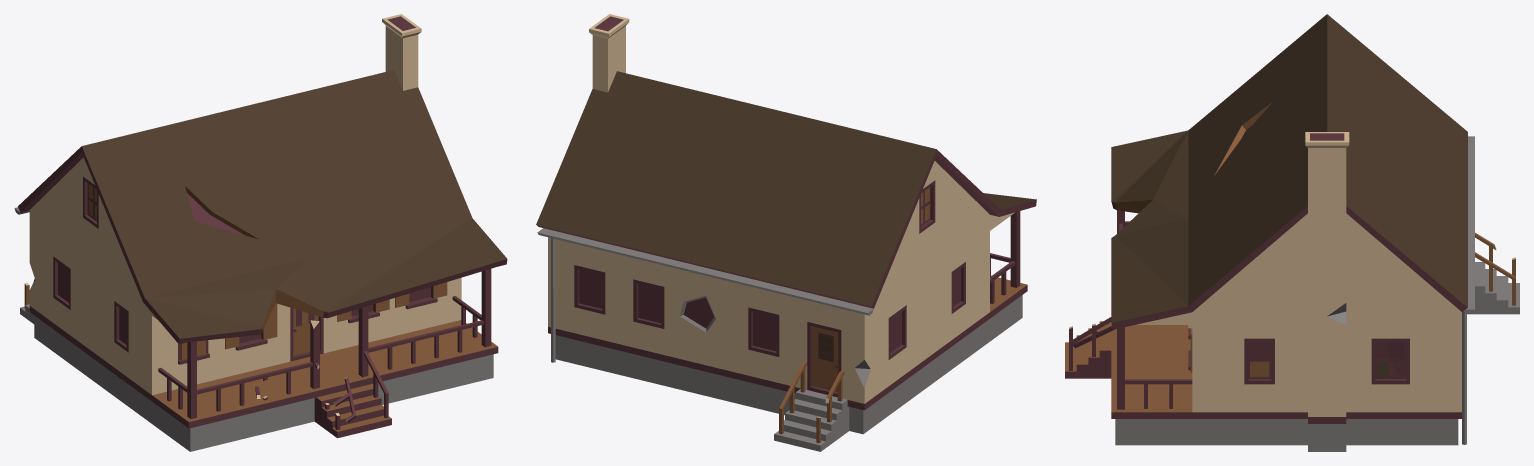
File: building-house-family-small-apocalypse-b.fbx
3 views of the same model, side by side, from view 1: azimuth 30°, elevation 25°; view 2: azimuth 150°, elevation 25°; view 3: azimuth 270°, elevation 25° (orthographic). The views are drawn at different scales.
Visible parts, largest first — view 1: building-house-family-small-apocalypse-b; view 2: building-house-family-small-apocalypse-b; view 3: building-house-family-small-apocalypse-b.
Boxes of the visible parts, box(x1,y1,x2,y2) form: building-house-family-small-apocalypse-b: box(14, 14, 507, 451); building-house-family-small-apocalypse-b: box(536, 14, 1036, 451); building-house-family-small-apocalypse-b: box(1065, 14, 1519, 451).
Bounding box in the file's own units: 10.87 × 8.9 × 11.8.
